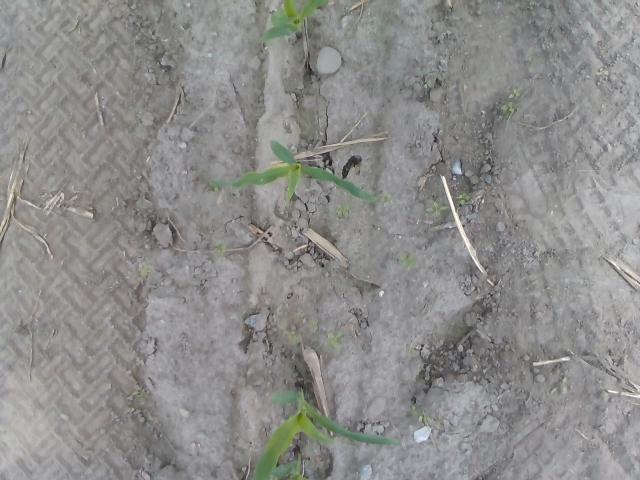Maize: (252, 382, 402, 480), (206, 138, 376, 206), (255, 0, 328, 41)
Weeds: (322, 332, 343, 353), (424, 201, 448, 217), (400, 254, 418, 269), (133, 263, 151, 278), (336, 202, 352, 218), (558, 375, 569, 394), (499, 100, 515, 113), (456, 192, 470, 206), (286, 330, 298, 343), (215, 243, 227, 256), (382, 192, 394, 203), (510, 88, 521, 99), (418, 415, 432, 423), (422, 78, 432, 88), (308, 318, 318, 328)
